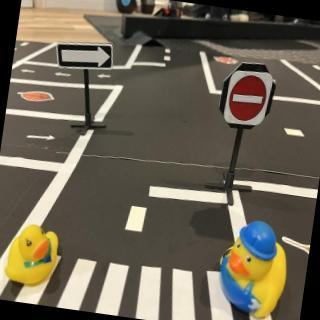duck_regular: (3, 223, 61, 291)
duck_specialty: (213, 218, 293, 320)
road_crosswalk: (14, 243, 285, 320)
road_oneway: (25, 131, 58, 145), (53, 71, 73, 81), (96, 73, 114, 83), (20, 66, 37, 76)
sign_noentry: (222, 67, 275, 128)
sign_oneway_right: (55, 38, 116, 76)
